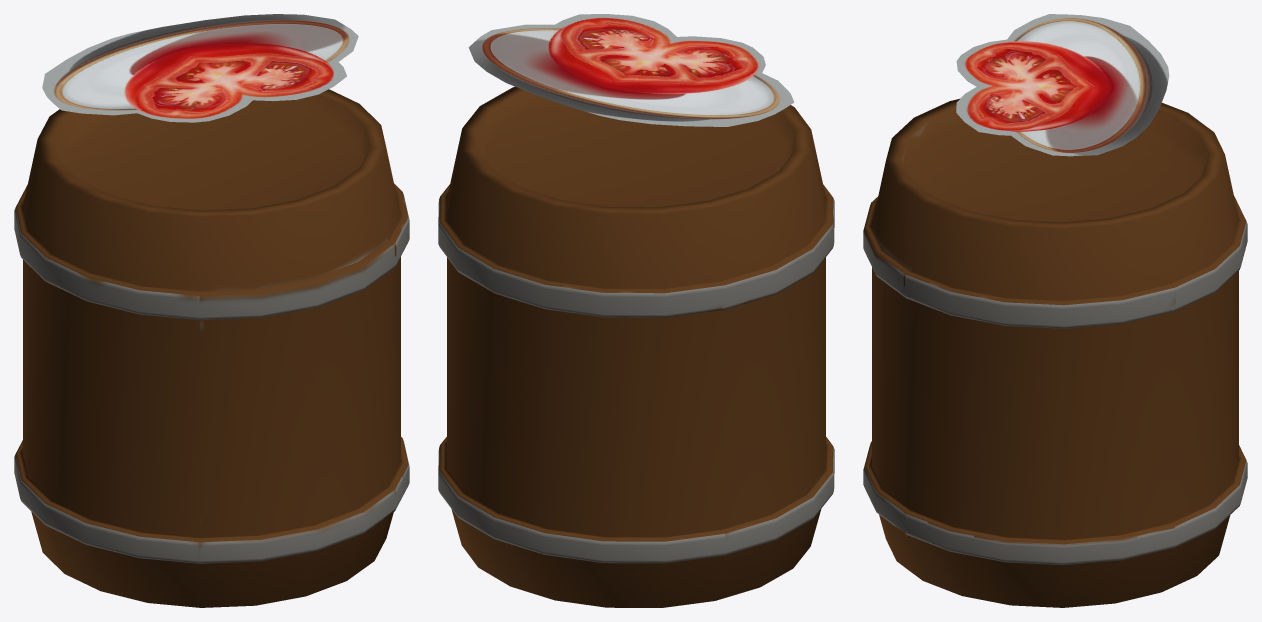
The model's file is Ingredientes_5_CorazondeVictima.fbx.
3 renders of one model, left to right at view 1: azimuth 30°, elevation 25°; view 2: azimuth 150°, elevation 25°; view 3: azimuth 270°, elevation 25°, orthographic. The views are drawn at different scales.
Parts seen in each view (by area): view 1: Barril_mesh, MK_Ingredientes_5_CorazondeVictima; view 2: Barril_mesh, MK_Ingredientes_5_CorazondeVictima; view 3: Barril_mesh, MK_Ingredientes_5_CorazondeVictima.
Boxes of the visible parts, <box> form: Barril_mesh: <box>14,89,409,607</box>; MK_Ingredientes_5_CorazondeVictima: <box>42,14,358,122</box>; Barril_mesh: <box>438,87,834,607</box>; MK_Ingredientes_5_CorazondeVictima: <box>468,14,794,126</box>; Barril_mesh: <box>863,98,1247,607</box>; MK_Ingredientes_5_CorazondeVictima: <box>956,14,1169,156</box>.
Bounding box in the file's own units: 1.84 × 2.37 × 1.84.
2 materials, 2 textured.
